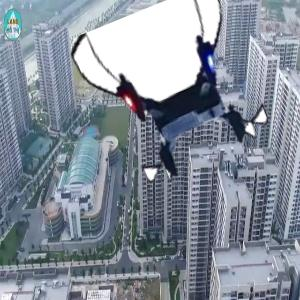drone: (90, 4, 265, 179)
